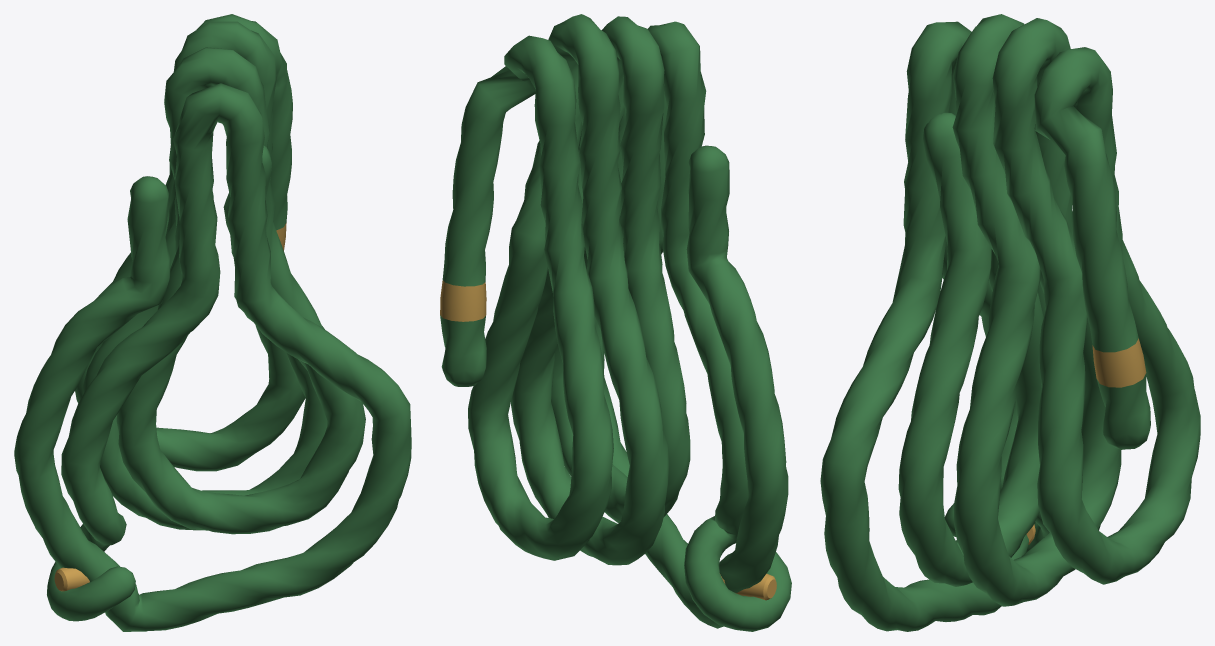
The model's file is w_lasso@lasso_hose.glb.
3 views of the same model, side by side, from view 1: azimuth 30°, elevation 25°; view 2: azimuth 150°, elevation 25°; view 3: azimuth 270°, elevation 25° (orthographic). The views are drawn at different scales.
Visible parts, largest first — view 1: loop_wzA__rope__p3f7a4a, coil_wzA__rope__p3f7a4a, loop_wzN__brass__pc49a4e; view 2: coil_wzA__rope__p3f7a4a, loop_wzA__rope__p3f7a4a, coil_wzN__leather__pb8924a, loop_wzN__brass__pc49a4e; view 3: coil_wzA__rope__p3f7a4a, loop_wzA__rope__p3f7a4a, coil_wzN__leather__pb8924a.
Part boxes in pixels (bbox=[...]): loop_wzA__rope__p3f7a4a: bbox=[14, 83, 411, 631]; coil_wzA__rope__p3f7a4a: bbox=[75, 14, 365, 534]; loop_wzN__brass__pc49a4e: bbox=[54, 567, 89, 591]; coil_wzA__rope__p3f7a4a: bbox=[440, 14, 690, 565]; loop_wzA__rope__p3f7a4a: bbox=[594, 21, 791, 631]; coil_wzN__leather__pb8924a: bbox=[440, 280, 486, 321]; loop_wzN__brass__pc49a4e: bbox=[720, 573, 776, 600]; coil_wzA__rope__p3f7a4a: bbox=[898, 14, 1200, 606]; loop_wzA__rope__p3f7a4a: bbox=[820, 21, 1049, 631]; coil_wzN__leather__pb8924a: bbox=[1092, 338, 1146, 387].
Size of the model in its own units: 0.203 by 0.3632 by 0.1944.
